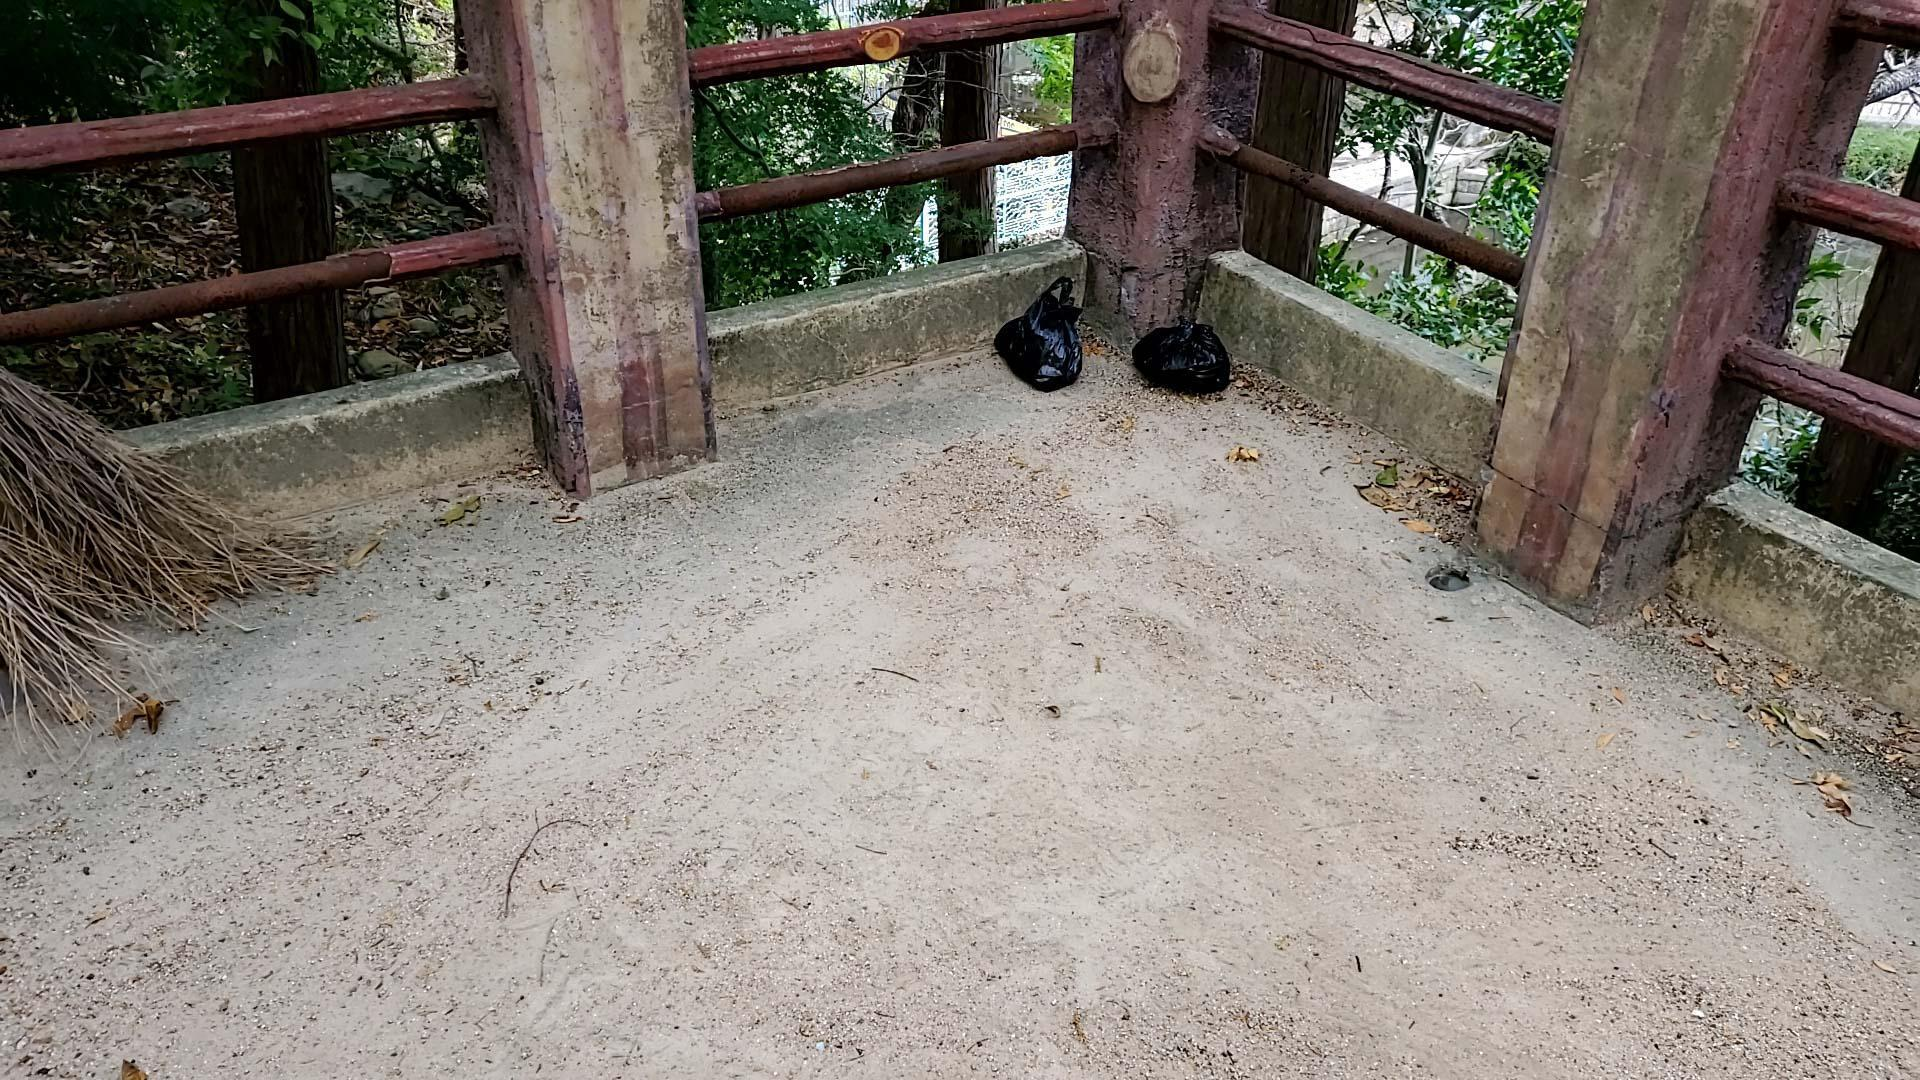black_bag: (985, 269, 1095, 394), (1125, 315, 1236, 401)
